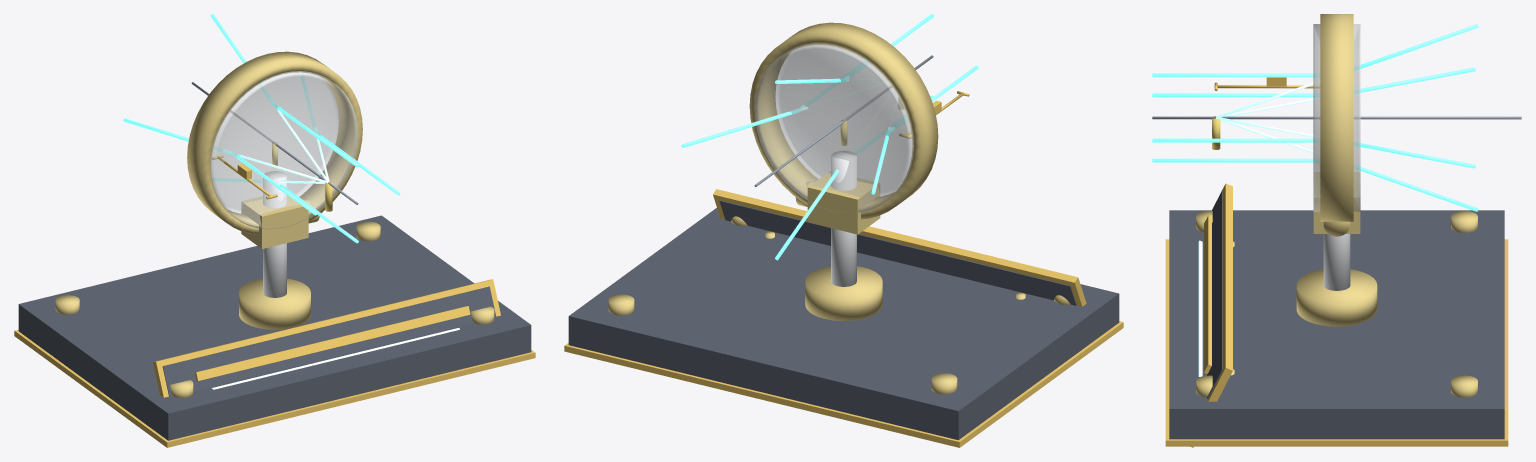
The model's file is concave-lens.glb.
3 renders of one model, left to right at view 1: azimuth 30°, elevation 25°; view 2: azimuth 150°, elevation 25°; view 3: azimuth 270°, elevation 25°, orthographic. The views are drawn at different scales.
Parts seen in each view (by area): view 1: ccv_full_plinth, ccv_full_lens, ccv_sec_lens, ccv_full_rim, ccv_sec_plaque_face, ccv_full_plinth_rim, ccv_sec_plaque_trim, ccv_full_base_boss, ccv_sec_title_bar, ccv_full_clamp_collar, ccv_full_chrome_post, ccv_sec_sub1; view 2: ccv_full_plinth, ccv_full_lens, ccv_sec_lens, ccv_full_rim, ccv_sec_plaque_face, ccv_full_plinth_rim, ccv_sec_plaque_trim, ccv_full_base_boss, ccv_full_clamp_collar, ccv_full_chrome_post, ccv_sec_r_div_0, ccv_sec_principal_axis; view 3: ccv_full_plinth, ccv_full_rim, ccv_full_plinth_rim, ccv_full_base_boss, ccv_full_lens, ccv_sec_lens, ccv_sec_plaque_trim, ccv_sec_plaque_face, ccv_full_chrome_post, ccv_sec_principal_axis, ccv_sec_title_bar, ccv_full_clamp_collar (+11 smaller).
Boxes of the visible parts, x1,y1,x2,y2 form: ccv_full_plinth: (18, 215, 531, 440); ccv_full_lens: (210, 71, 357, 228); ccv_sec_lens: (210, 71, 357, 228); ccv_full_rim: (187, 51, 362, 234); ccv_sec_plaque_face: (162, 286, 496, 396); ccv_full_plinth_rim: (14, 330, 535, 447); ccv_sec_plaque_trim: (153, 279, 500, 397); ccv_full_base_boss: (239, 278, 310, 329); ccv_sec_title_bar: (195, 306, 470, 381); ccv_full_clamp_collar: (241, 195, 308, 248); ccv_full_chrome_post: (263, 171, 286, 297); ccv_sec_sub1: (212, 328, 459, 389); ccv_full_plinth: (568, 208, 1119, 440); ccv_full_lens: (755, 43, 913, 212); ccv_sec_lens: (755, 44, 913, 212); ccv_full_rim: (749, 22, 938, 219); ccv_sec_plaque_face: (719, 200, 1076, 305); ccv_full_plinth_rim: (564, 321, 1123, 447); ccv_sec_plaque_trim: (713, 189, 1086, 306); ccv_full_base_boss: (805, 266, 882, 320); ccv_full_clamp_collar: (807, 171, 880, 234); ccv_full_chrome_post: (831, 151, 856, 286); ccv_sec_r_div_0: (681, 108, 800, 147); ccv_sec_principal_axis: (754, 55, 933, 186); ccv_full_plinth: (1169, 210, 1504, 439); ccv_full_rim: (1320, 14, 1353, 221); ccv_full_plinth_rim: (1165, 239, 1508, 446); ccv_full_base_boss: (1296, 269, 1377, 326); ccv_full_lens: (1313, 24, 1360, 211); ccv_sec_lens: (1313, 24, 1360, 211); ccv_sec_plaque_trim: (1190, 183, 1232, 447); ccv_sec_plaque_face: (1207, 191, 1222, 398); ccv_full_chrome_post: (1323, 234, 1350, 290); ccv_sec_principal_axis: (1152, 116, 1521, 119); ccv_sec_title_bar: (1204, 215, 1211, 373); ccv_full_clamp_collar: (1313, 172, 1360, 233).
Size of the model in its own units: 0.142 by 0.1092 by 0.11.
